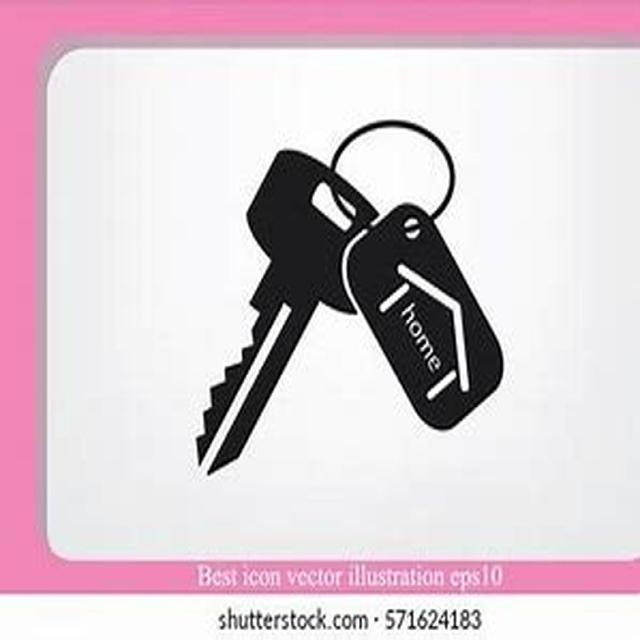key: (157, 114, 389, 516)
